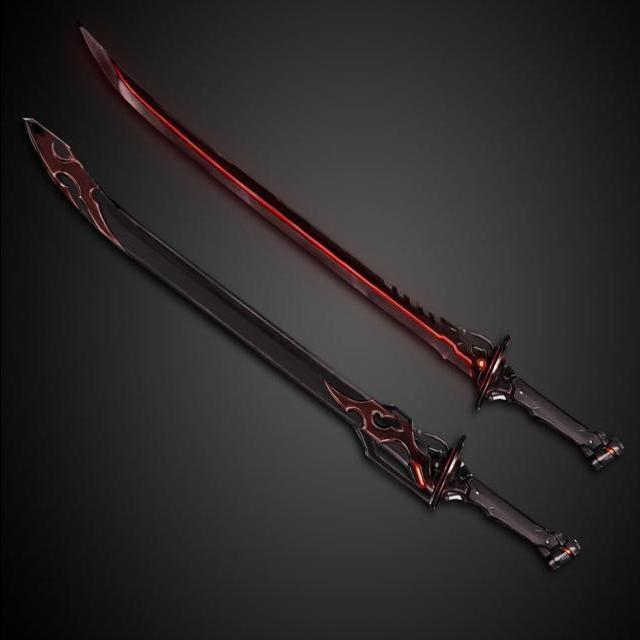katana: (23, 115, 585, 578), (76, 28, 629, 472)
